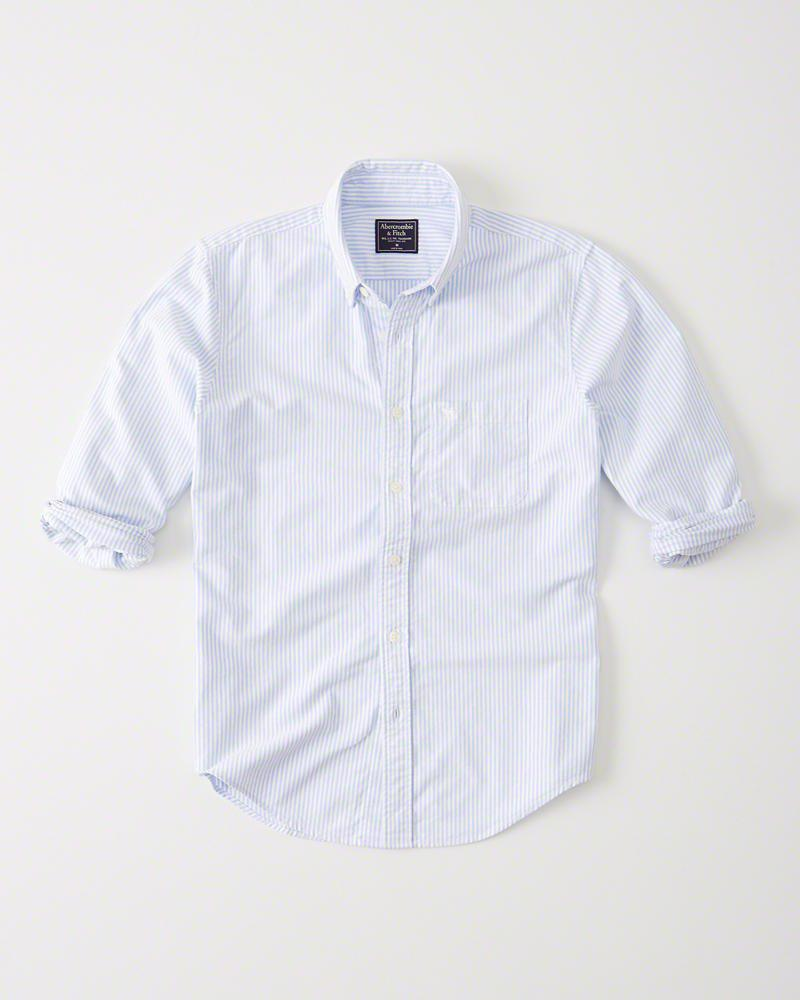teeshirt: (55, 156, 762, 837)
